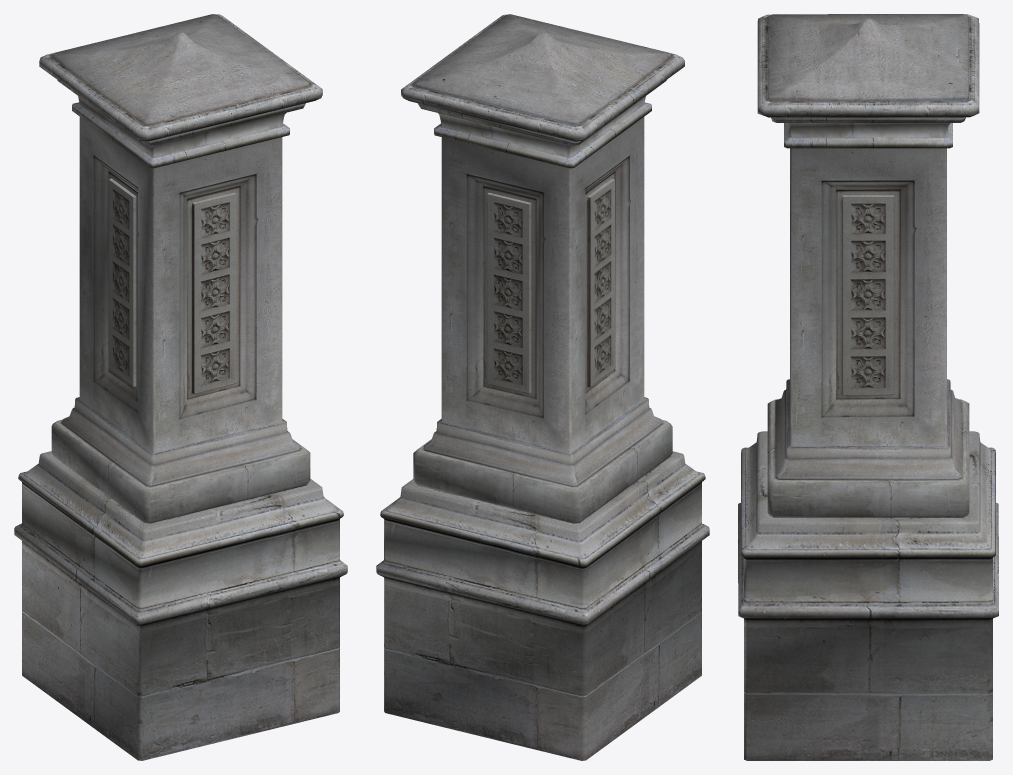
Rendered from StoneFence_Post_LOD0.fbx.
3 renders of one model, left to right at view 1: azimuth 30°, elevation 25°; view 2: azimuth 150°, elevation 25°; view 3: azimuth 270°, elevation 25°, orthographic. The views are drawn at different scales.
Visible parts, largest first — view 1: StoneFence_Post_LOD0; view 2: StoneFence_Post_LOD0; view 3: StoneFence_Post_LOD0.
Boxes of the visible parts, bbox=[...] form: StoneFence_Post_LOD0: bbox=[14, 14, 347, 760]; StoneFence_Post_LOD0: bbox=[376, 14, 709, 760]; StoneFence_Post_LOD0: bbox=[738, 14, 998, 760].
Bounding box in the file's own units: 79.4 × 236 × 80.97.
